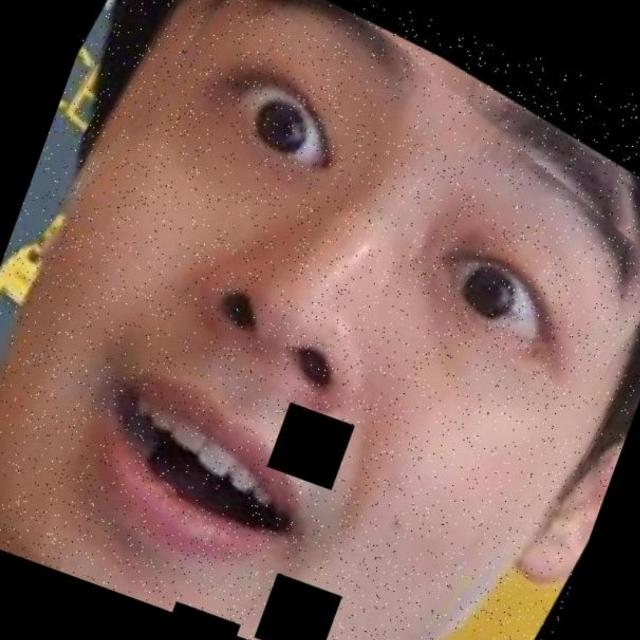Surprised: (51, 21, 640, 640)
